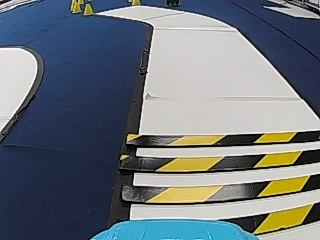bump: (143, 132, 318, 217)
